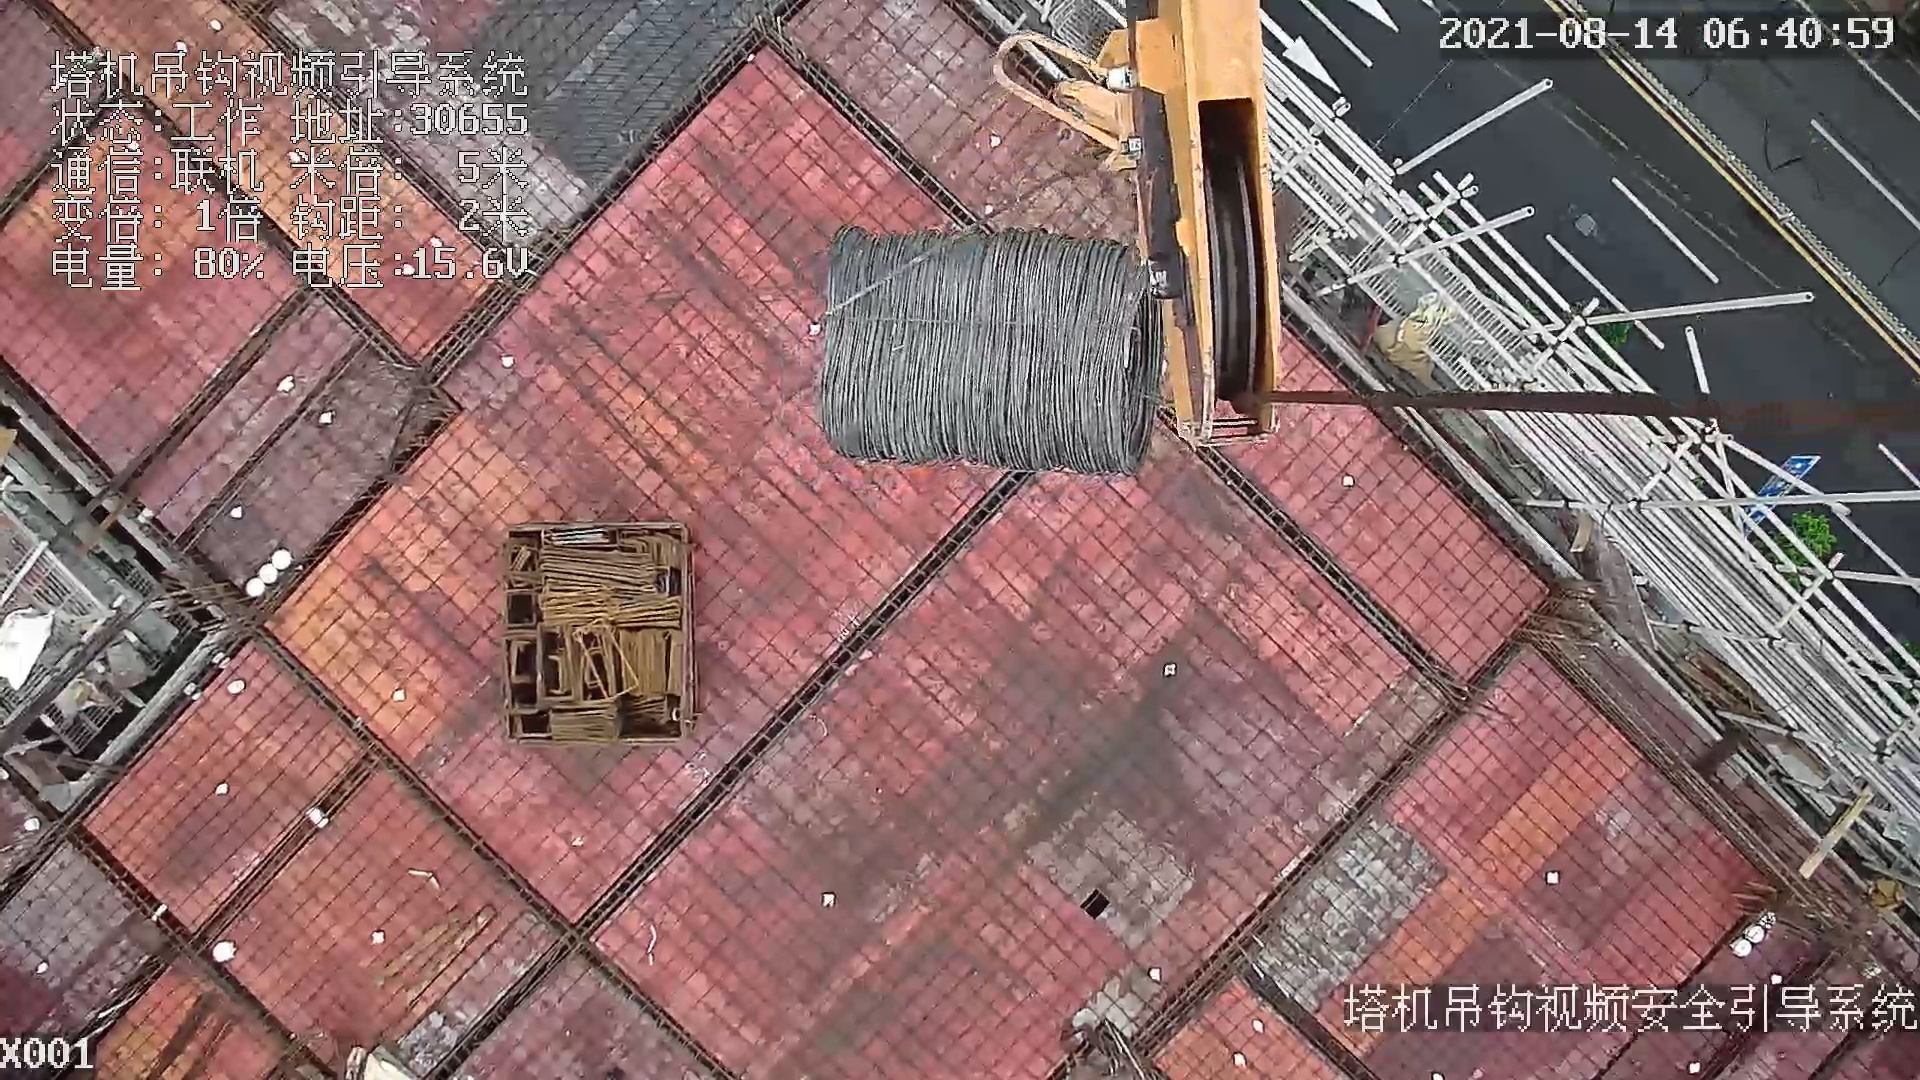hook: (988, 1, 1295, 444)
